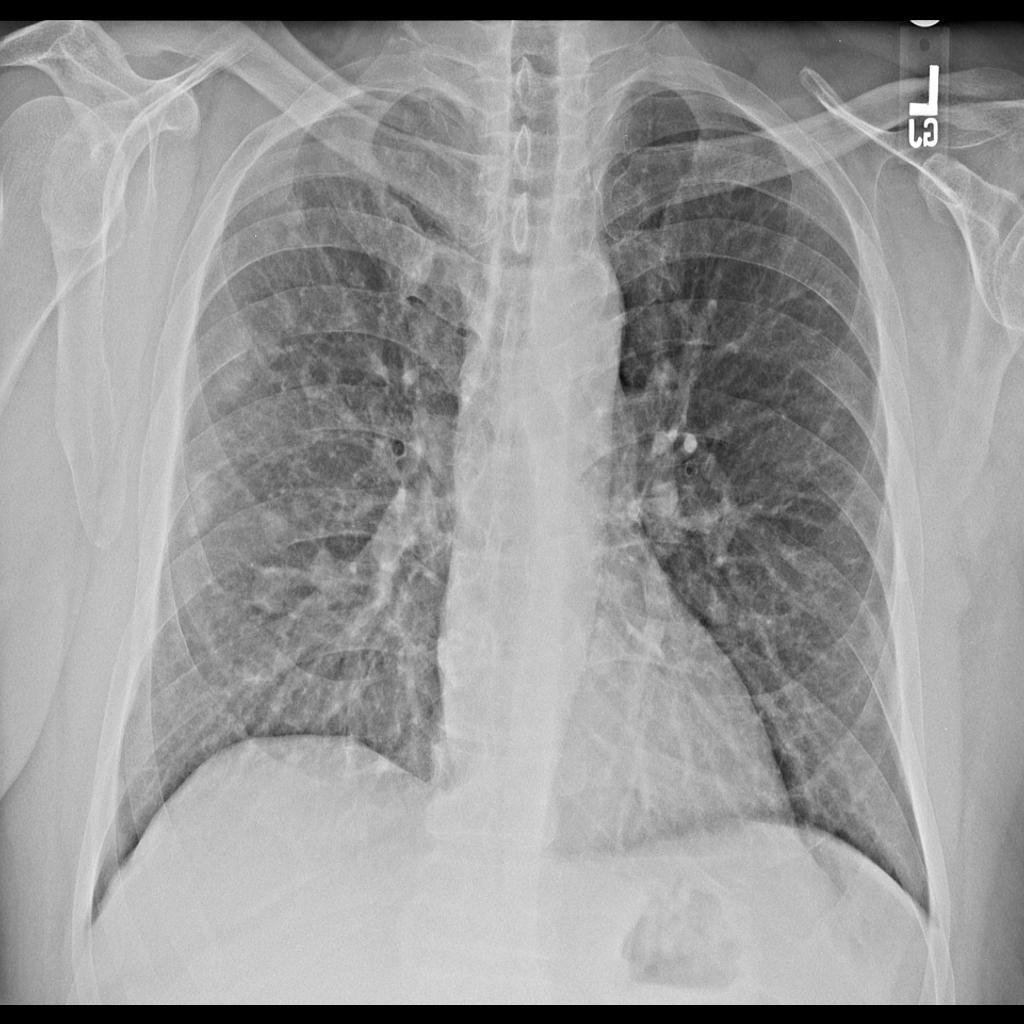Nodule: (252, 508, 346, 613), (205, 311, 287, 405), (184, 483, 214, 544)
